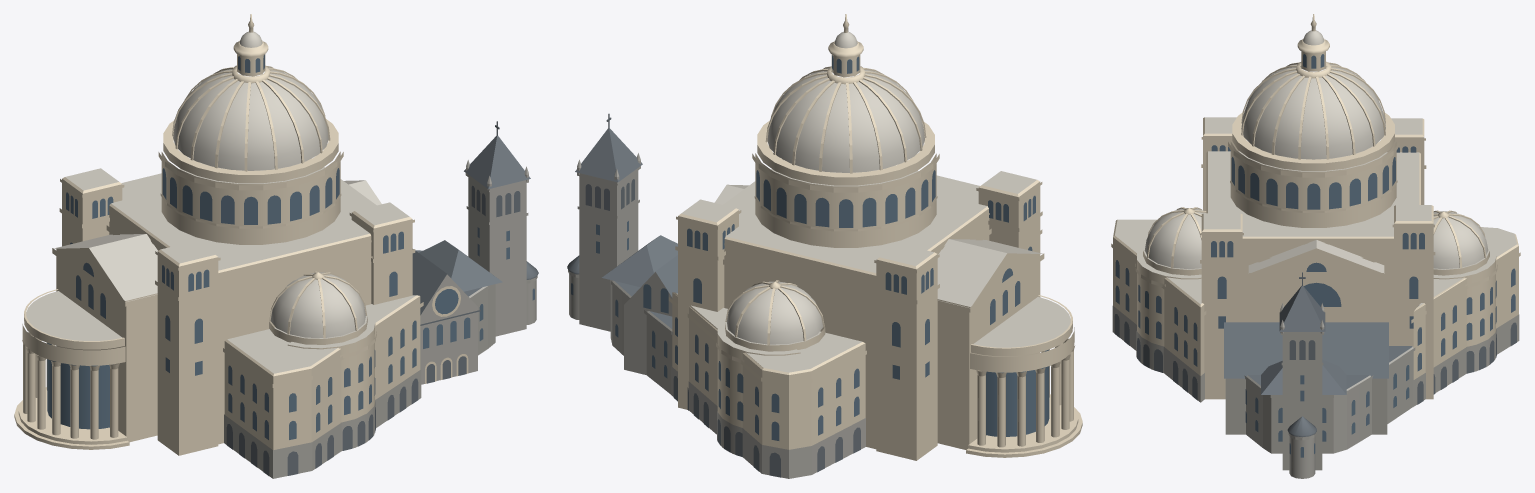
Rendered from bos-mother-church.glb.
The picture shows the model from 3 angles, left to right: view 1: azimuth 30°, elevation 25°; view 2: azimuth 150°, elevation 25°; view 3: azimuth 270°, elevation 25°; orthographic projection. The views are drawn at different scales.
Visible parts, largest first — view 1: The First Church of Christ, Scientist; view 2: The First Church of Christ, Scientist; view 3: The First Church of Christ, Scientist.
Boxes of the visible parts, <box> form: The First Church of Christ, Scientist: <box>14,14,538,478</box>; The First Church of Christ, Scientist: <box>567,14,1082,478</box>; The First Church of Christ, Scientist: <box>1111,14,1520,478</box>.
Size of the model in its own units: 95.5 by 66.25 by 72.42.
